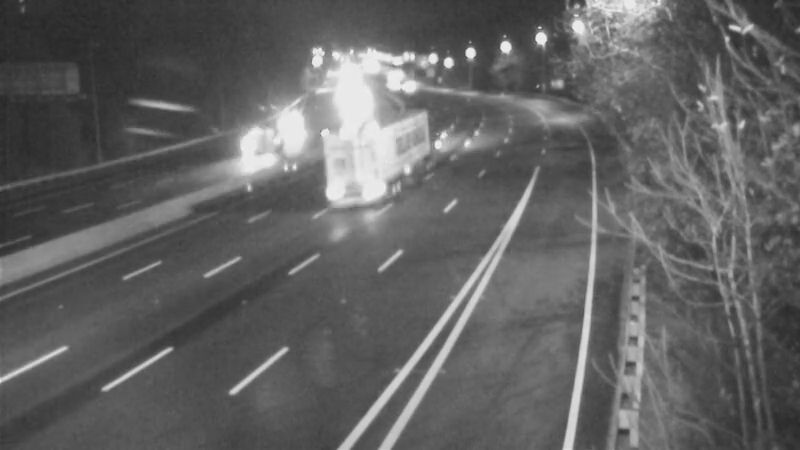vehicle: (312, 120, 392, 200), (230, 116, 280, 166), (268, 93, 318, 143)
